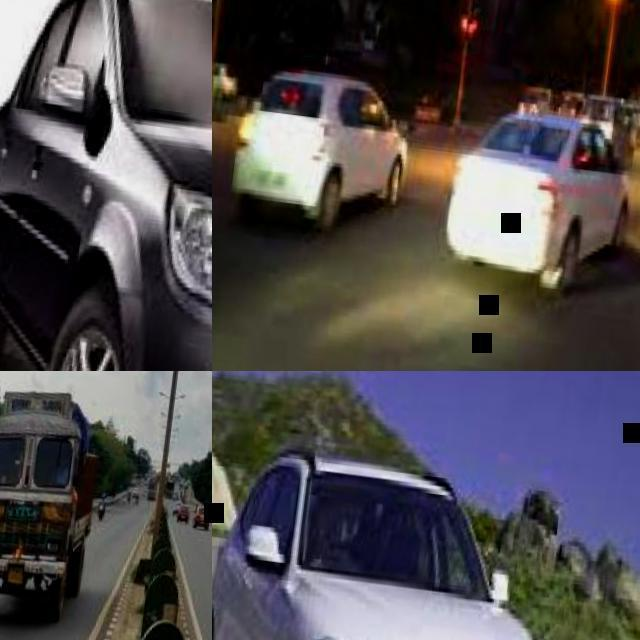car: (213, 439, 573, 639), (1, 0, 153, 370), (1, 385, 178, 632), (443, 108, 632, 299), (229, 73, 406, 235)
